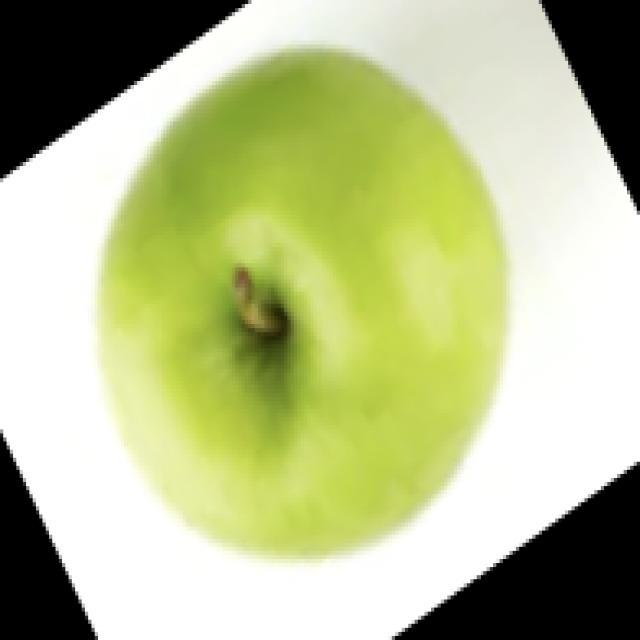Fresh Apple: (117, 49, 530, 534)
